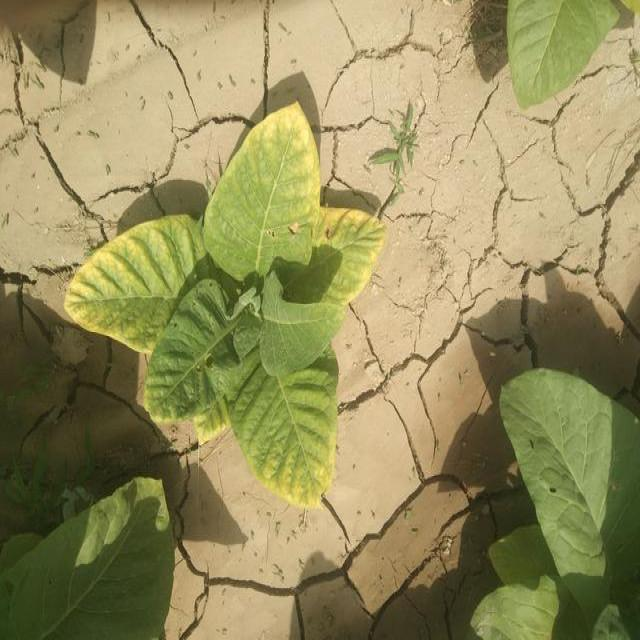crop: (66, 116, 382, 504), (472, 377, 639, 640), (0, 478, 167, 640), (496, 0, 640, 109)
